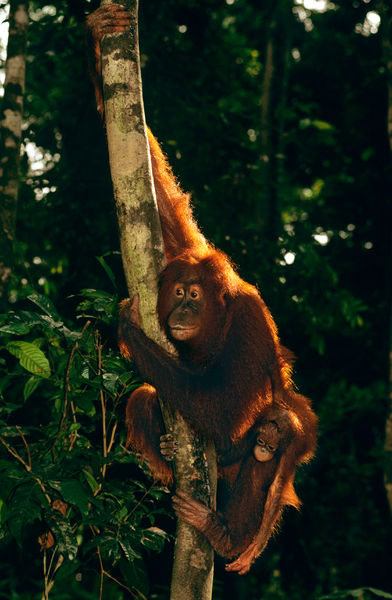Orangutan: (94, 194, 334, 527)
